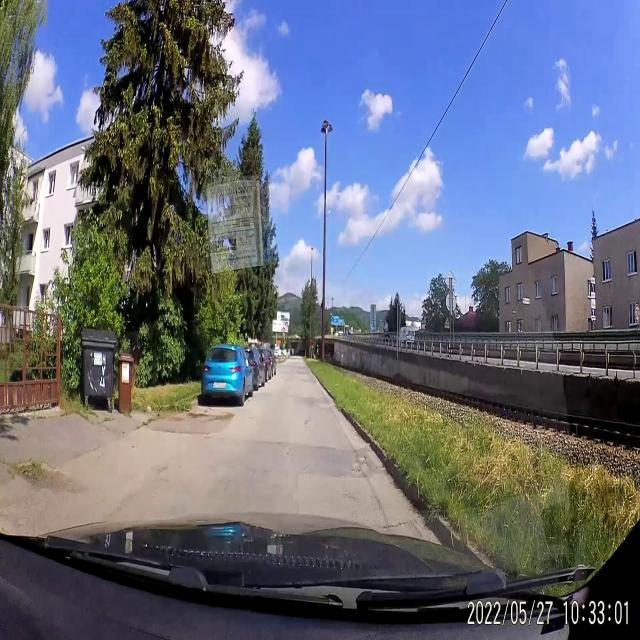Pothole: (351, 449, 372, 477)
